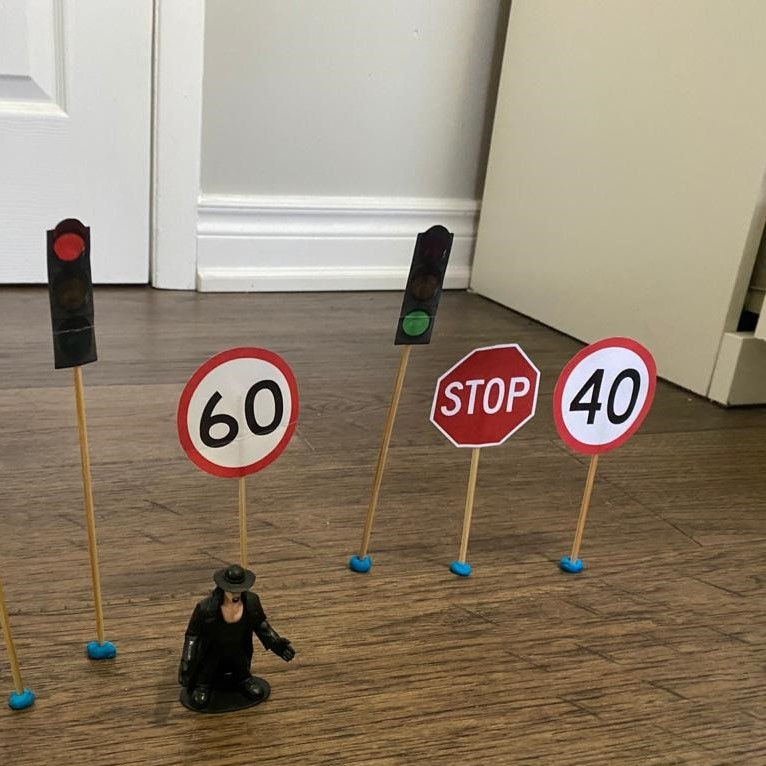Green Traffic Light: (386, 222, 460, 350)
Person: (169, 557, 300, 719)
Red Traffic Light: (42, 215, 102, 375)
Speed Limit 40: (554, 335, 666, 460)
Speed Limit 60: (173, 347, 300, 484)
Stop Sign: (425, 342, 543, 457)
